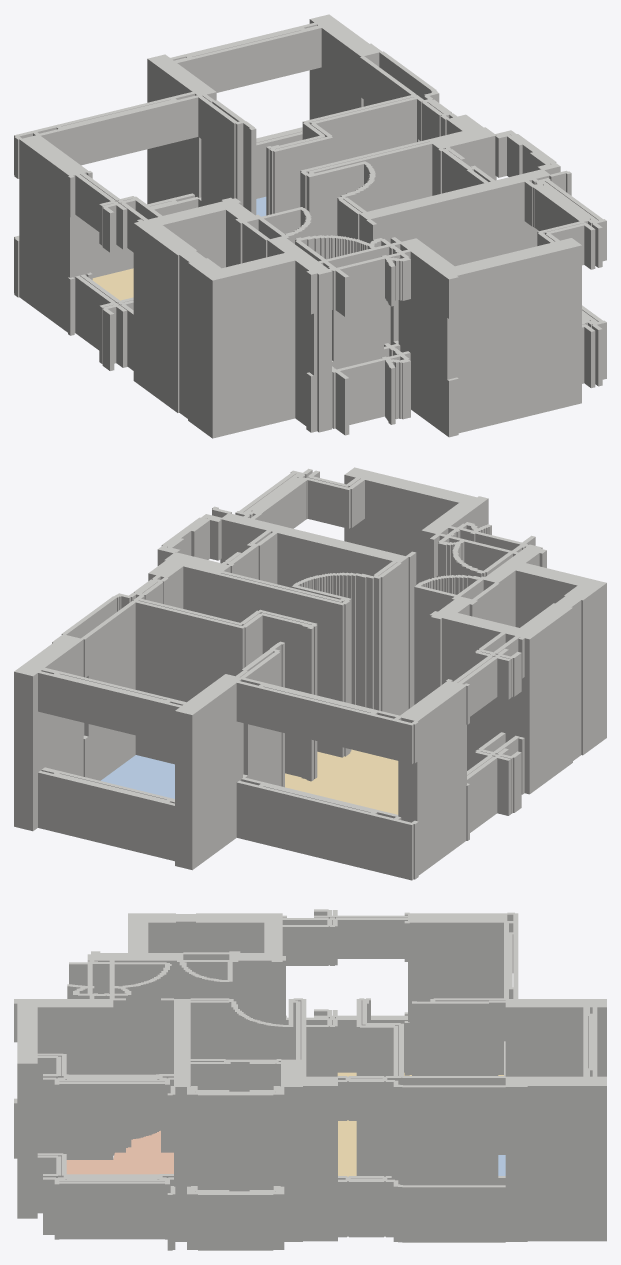
The picture shows the model from 3 angles, top to bottom: view 1: azimuth 30°, elevation 25°; view 2: azimuth 150°, elevation 25°; view 3: azimuth 270°, elevation 25°; orthographic projection.
Visible parts, largest first — view 1: walls, room:living:5; view 2: walls, room:living:5, room:bedroom:0; view 3: walls, room:kitchen:3, room:living:5.
Boxes of the visible parts, <box> form: walls: <box>14,14,606,438</box>; room:living:5: <box>92,268,133,300</box>; walls: <box>14,467,606,880</box>; room:living:5: <box>285,749,398,814</box>; room:bedroom:0: <box>101,755,174,798</box>; walls: <box>14,909,606,1250</box>; room:kitchen:3: <box>66,1130,173,1174</box>; room:living:5: <box>337,1072,503,1176</box>.
Size of the model in its own units: 7.19 by 2.8 by 9.69.
